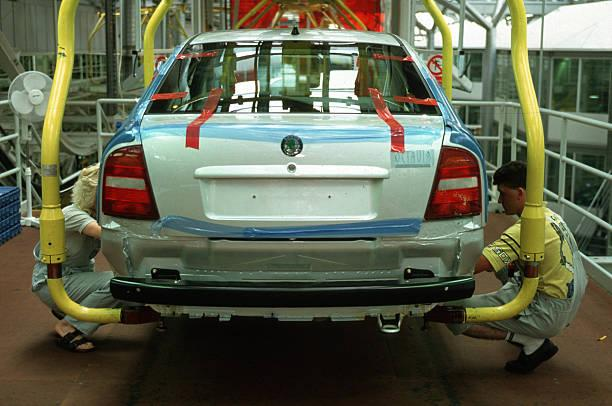skoda: (274, 129, 308, 162)
